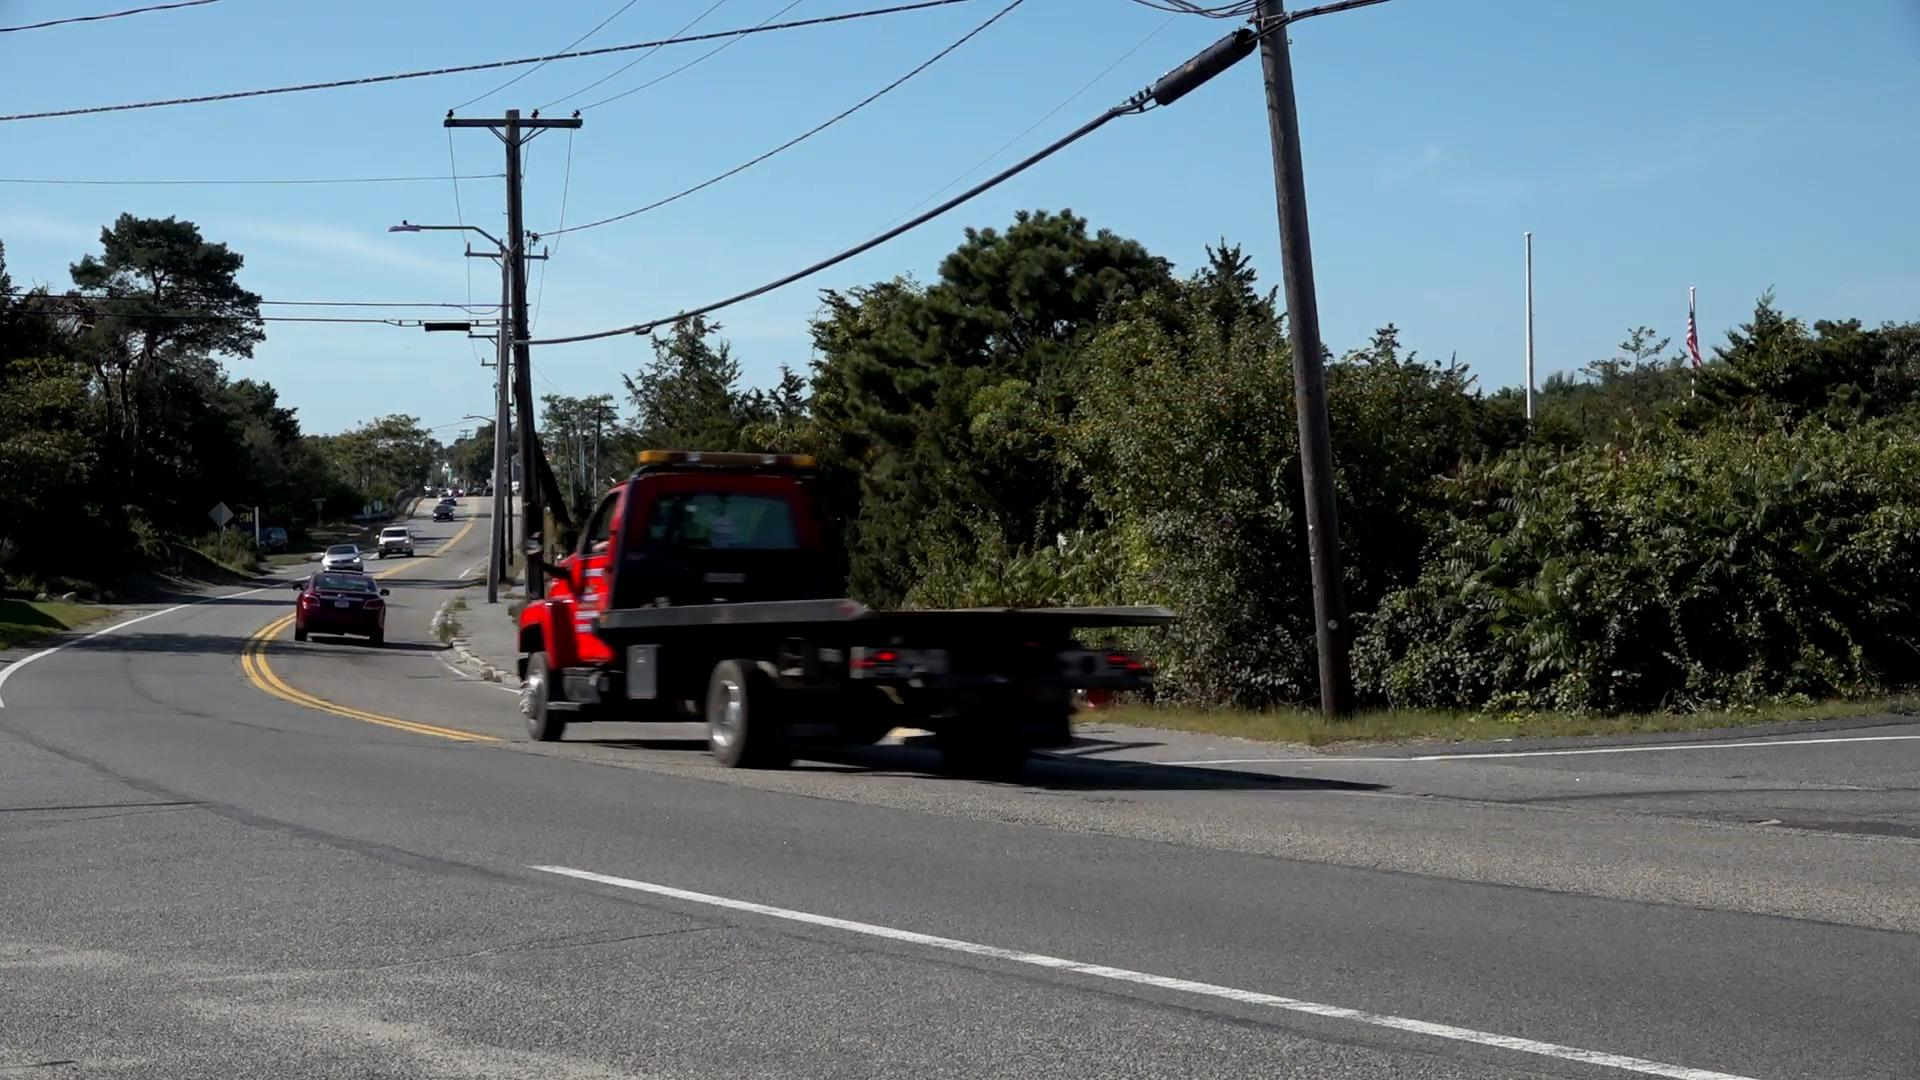sedans: (297, 569, 390, 648)
truck: (518, 448, 1172, 769)
